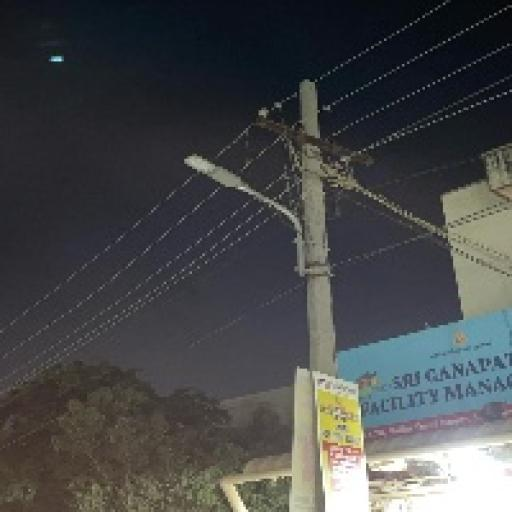Not Working: (174, 147, 249, 200)
